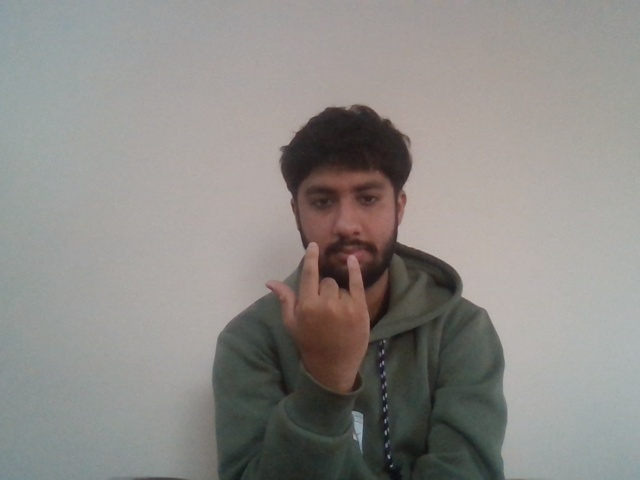IloveYou: (257, 238, 375, 351)
